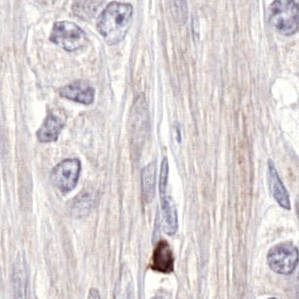Lymphocyte: (148, 241, 175, 273)
